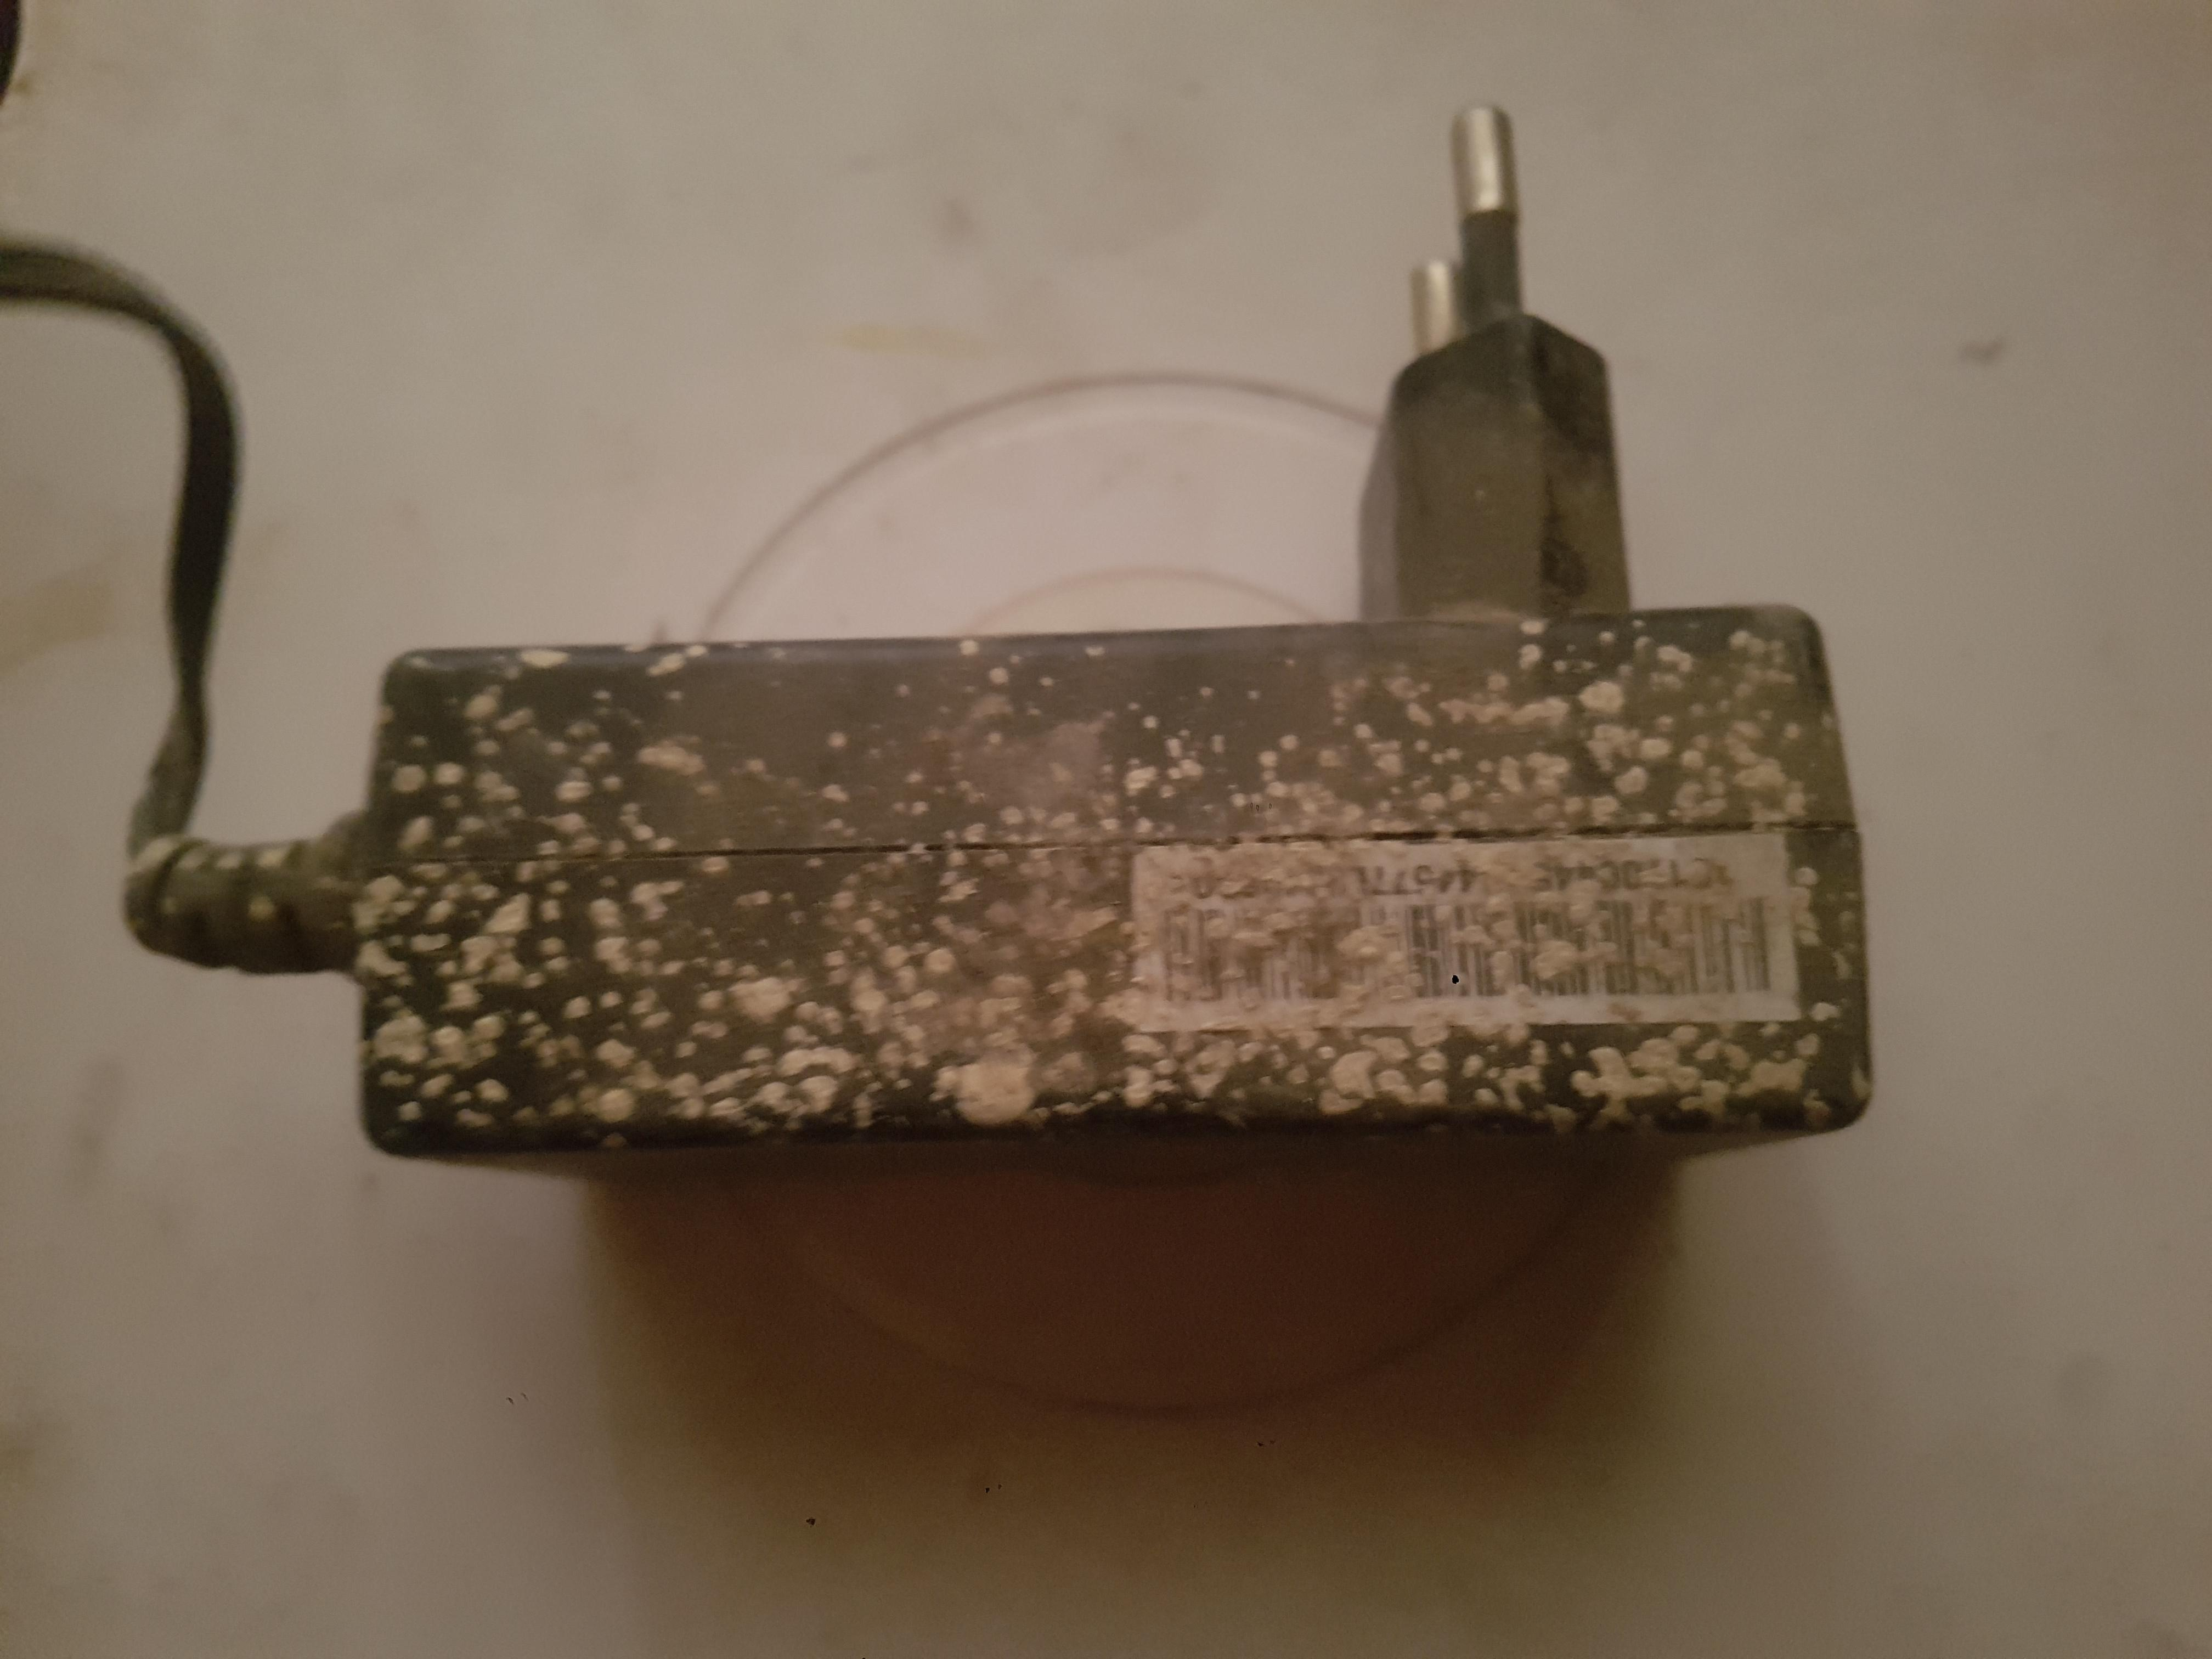electronic: (0, 174, 1914, 1183)
